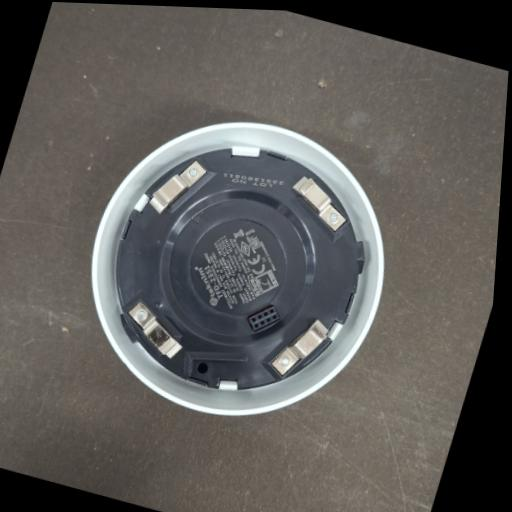yayli: (141, 151, 212, 225), (267, 309, 334, 387), (116, 297, 195, 362), (281, 171, 358, 237)
